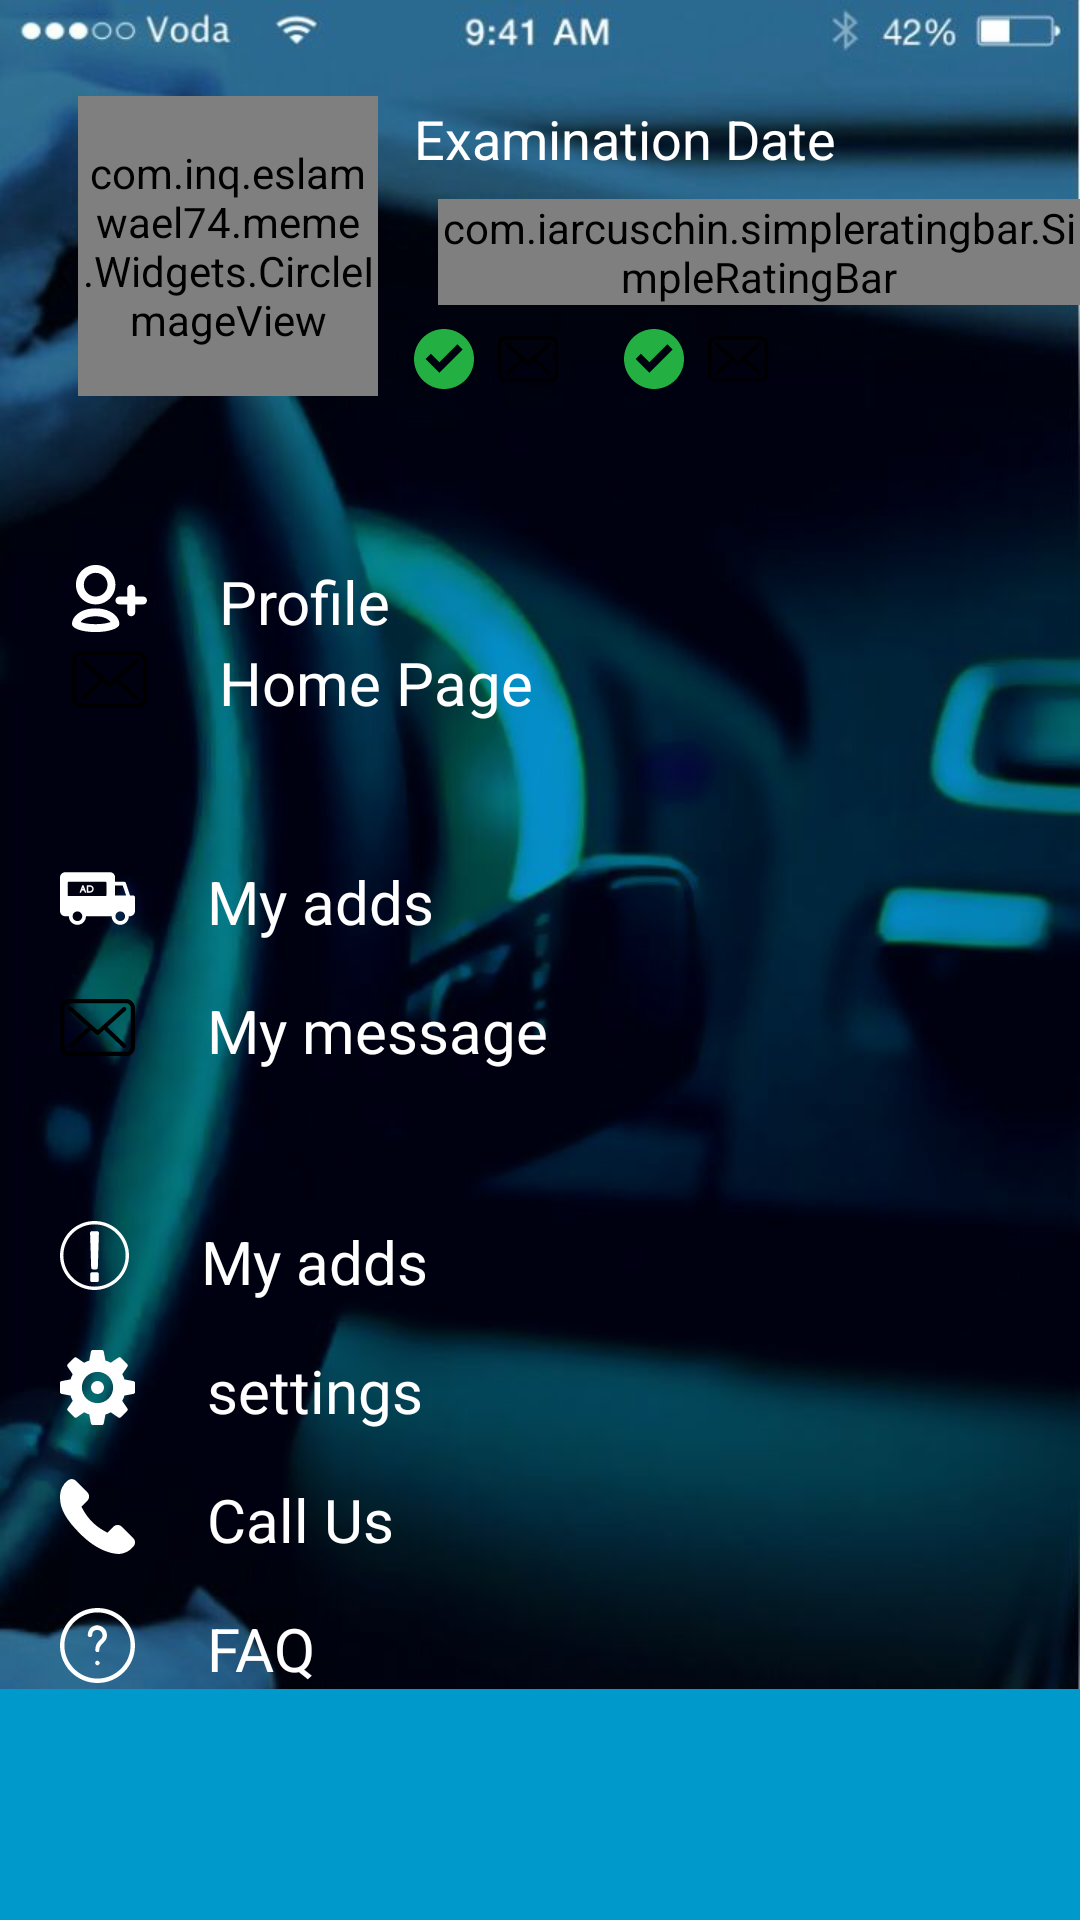

Where to tap for icons on this 1080×1920 app screen, as [x,y]:
add friend: [109,598]
ads menu: [97,904]
exclamation: [94,1255]
question mark: [97,1645]
right: [444,359], [654,359]
sittengs: [97,1387]
